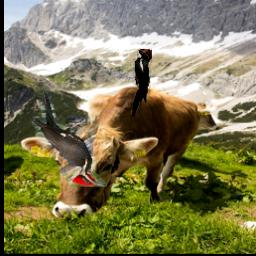Woodpecker: (32, 82, 107, 187), (132, 48, 153, 116)
